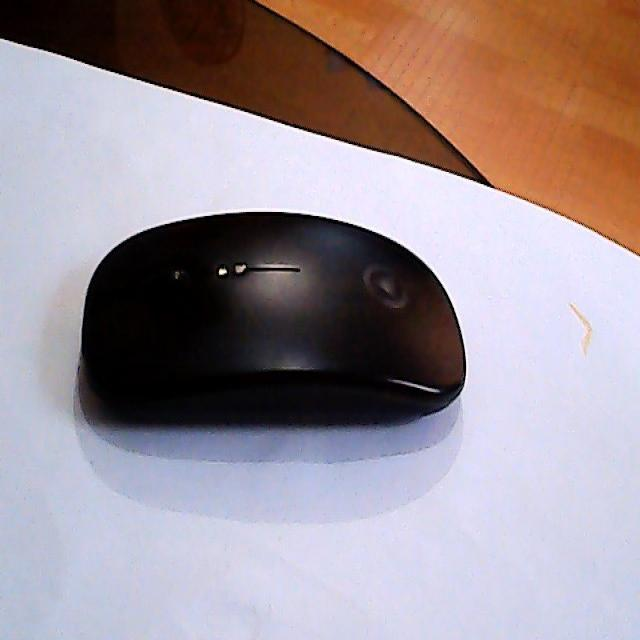-keyboard-: (79, 209, 469, 423)
